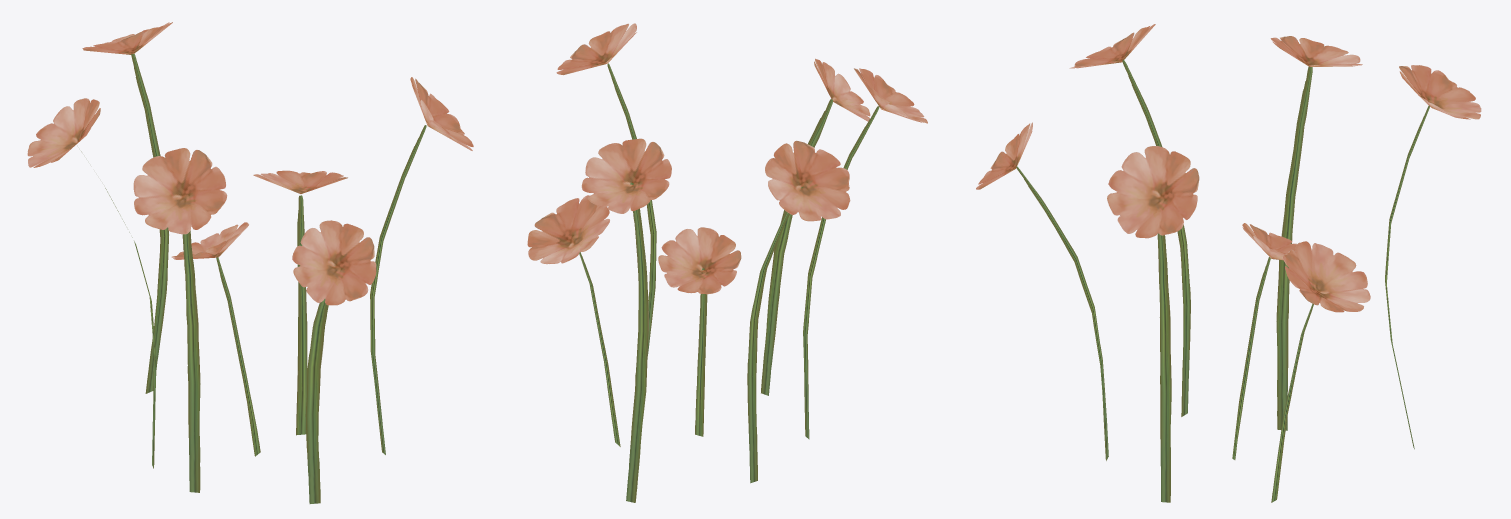
The model's file is SM_Ground_Soft_Pink_Flower_A.fbx.
3 views of the same model, side by side, from view 1: azimuth 30°, elevation 25°; view 2: azimuth 150°, elevation 25°; view 3: azimuth 270°, elevation 25° (orthographic). The views are drawn at different scales.
Parts seen in each view (by area): view 1: SM_Ground_Soft_Pink_Flower_A_LOD0; view 2: SM_Ground_Soft_Pink_Flower_A_LOD0; view 3: SM_Ground_Soft_Pink_Flower_A_LOD0.
Part boxes in pixels (left/top/right/bottom): SM_Ground_Soft_Pink_Flower_A_LOD0: left=27, top=22, right=473, bottom=503; SM_Ground_Soft_Pink_Flower_A_LOD0: left=527, top=23, right=927, bottom=502; SM_Ground_Soft_Pink_Flower_A_LOD0: left=976, top=24, right=1481, bottom=502.
Bounding box in the file's own units: 36.28 × 42.78 × 35.3.
Materials: 1 (1 with a texture image).
